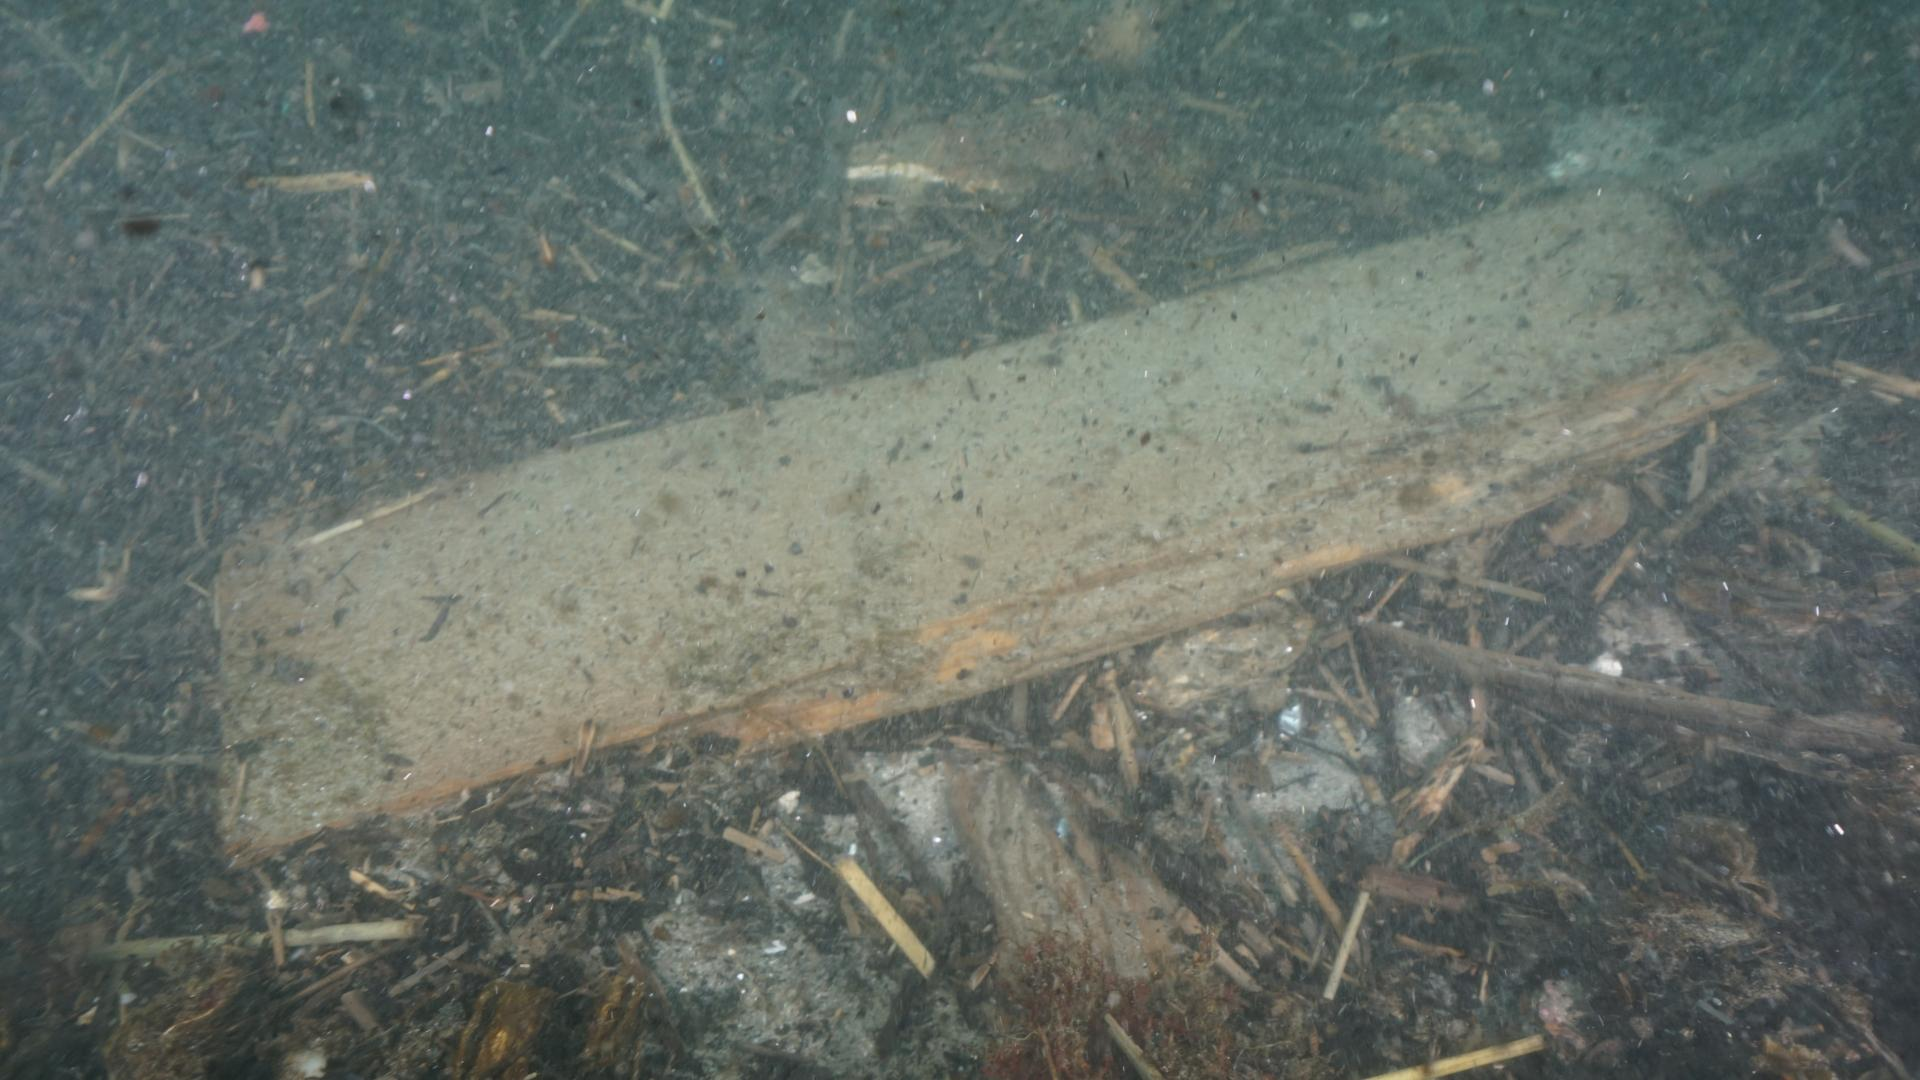wood: (204, 179, 1803, 876)
